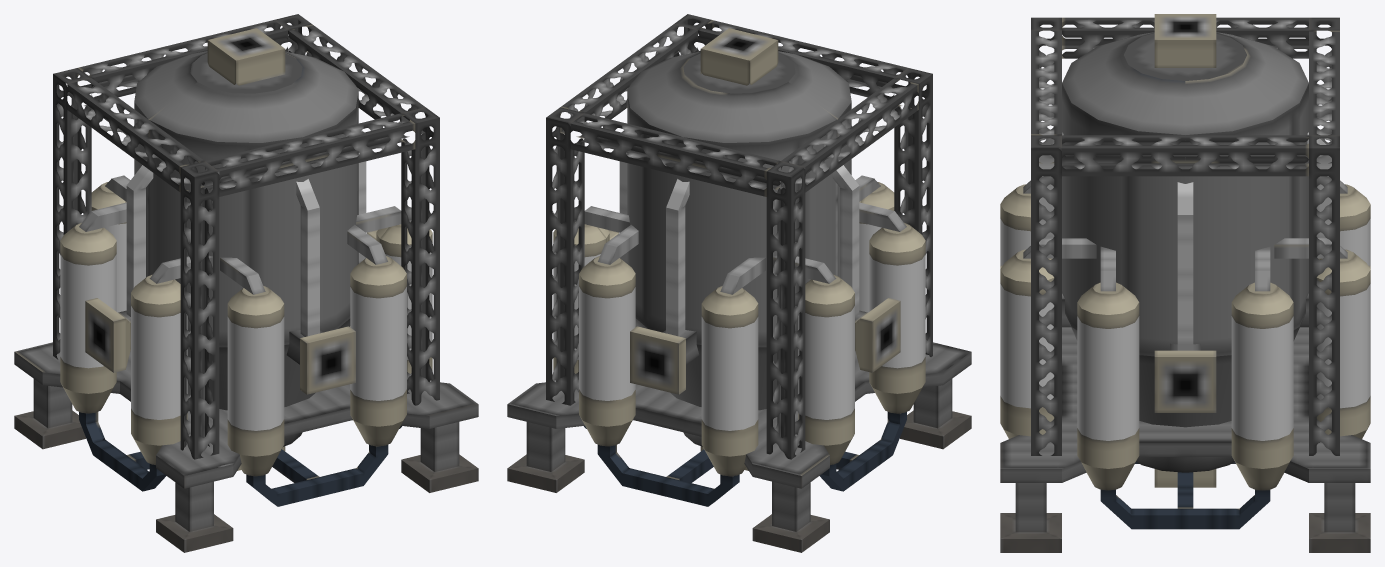
File: liquefactor.obj
The picture shows the model from 3 angles, left to right: view 1: azimuth 30°, elevation 25°; view 2: azimuth 150°, elevation 25°; view 3: azimuth 270°, elevation 25°; orthographic projection. The views are drawn at different scales.
Parts seen in each view (by area): view 1: Main, Glass; view 2: Main, Glass; view 3: Main, Glass.
Boxes of the visible parts, x1,y1,x2,y2 form: Main: (14,14,478,552); Glass: (60,223,432,430); Main: (507,14,971,552); Glass: (553,223,925,430); Main: (1000,14,1370,552); Glass: (1000,219,1370,440).
Size of the model in its own units: 3 by 4 by 3.
